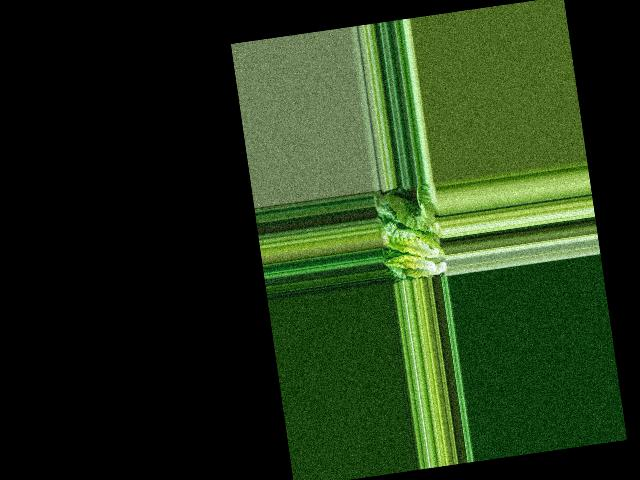lettuce: (381, 214, 448, 282)
